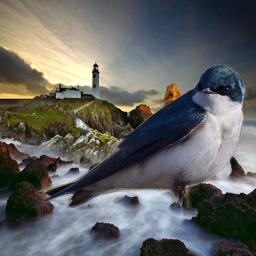Swallow: (41, 64, 246, 208)
